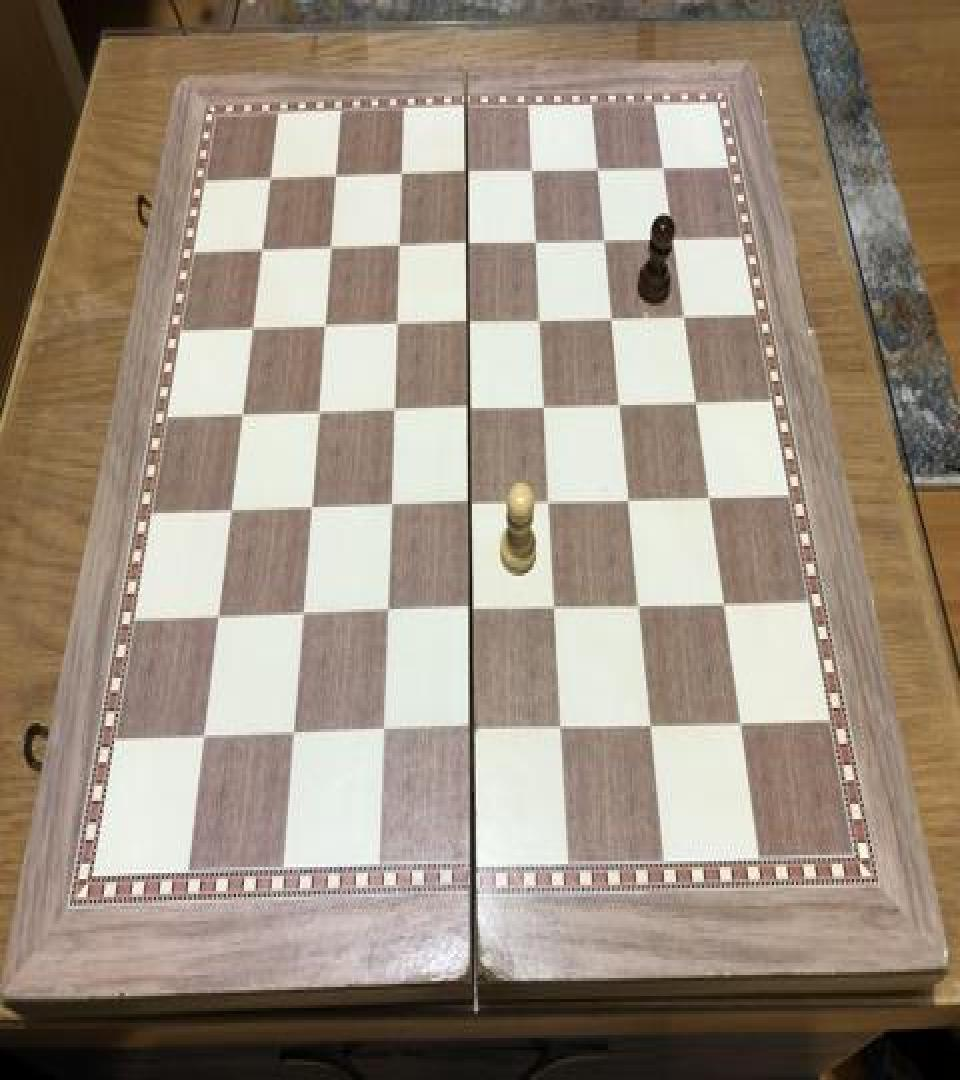xcorner: (715, 586, 739, 623), (462, 595, 486, 632), (292, 601, 316, 638), (374, 718, 398, 755), (652, 152, 676, 188), (586, 153, 610, 189), (521, 156, 545, 192), (455, 158, 479, 194), (389, 159, 413, 195), (323, 160, 347, 196), (257, 162, 281, 198), (662, 224, 686, 260), (594, 225, 618, 261), (525, 226, 549, 262), (456, 228, 480, 264), (387, 231, 411, 267), (318, 232, 342, 268), (249, 234, 273, 270), (673, 300, 697, 336), (601, 303, 625, 339), (529, 304, 553, 340), (457, 308, 481, 344), (385, 309, 409, 345), (312, 310, 336, 346), (240, 314, 264, 350), (686, 386, 710, 422), (610, 388, 634, 424), (534, 392, 558, 428), (459, 393, 483, 429), (383, 396, 407, 432), (306, 398, 330, 434), (230, 400, 254, 436), (700, 482, 724, 518), (620, 483, 644, 519), (540, 486, 564, 522), (460, 489, 484, 525), (380, 490, 404, 526), (300, 494, 324, 530), (219, 496, 243, 532), (631, 590, 655, 626), (546, 592, 570, 628), (377, 598, 401, 634), (207, 603, 231, 639), (732, 705, 756, 741), (643, 708, 667, 744), (553, 711, 577, 747), (464, 714, 488, 750), (284, 722, 308, 758), (193, 724, 217, 760)
